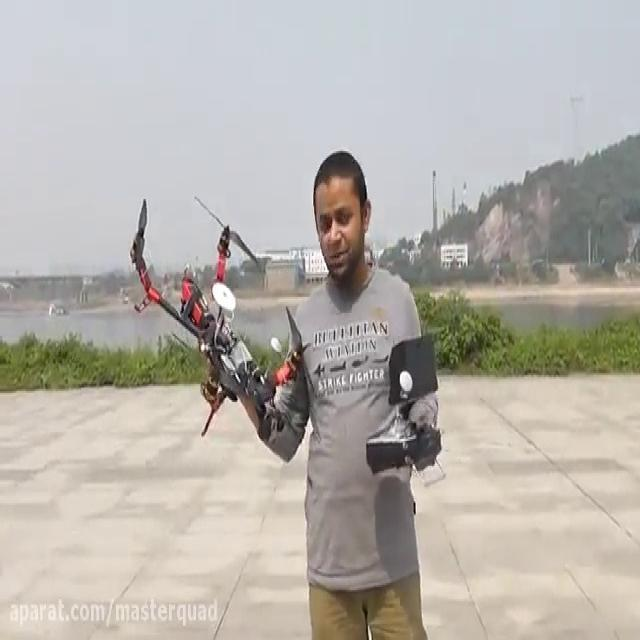drone: (128, 190, 314, 446)
